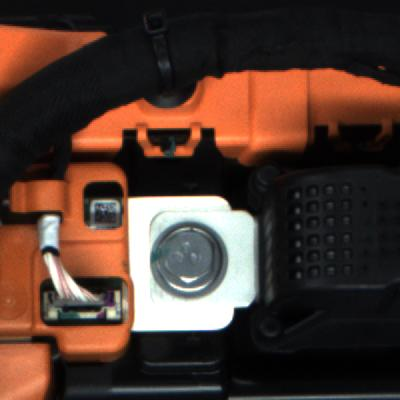nut_b: (147, 212, 262, 306)
